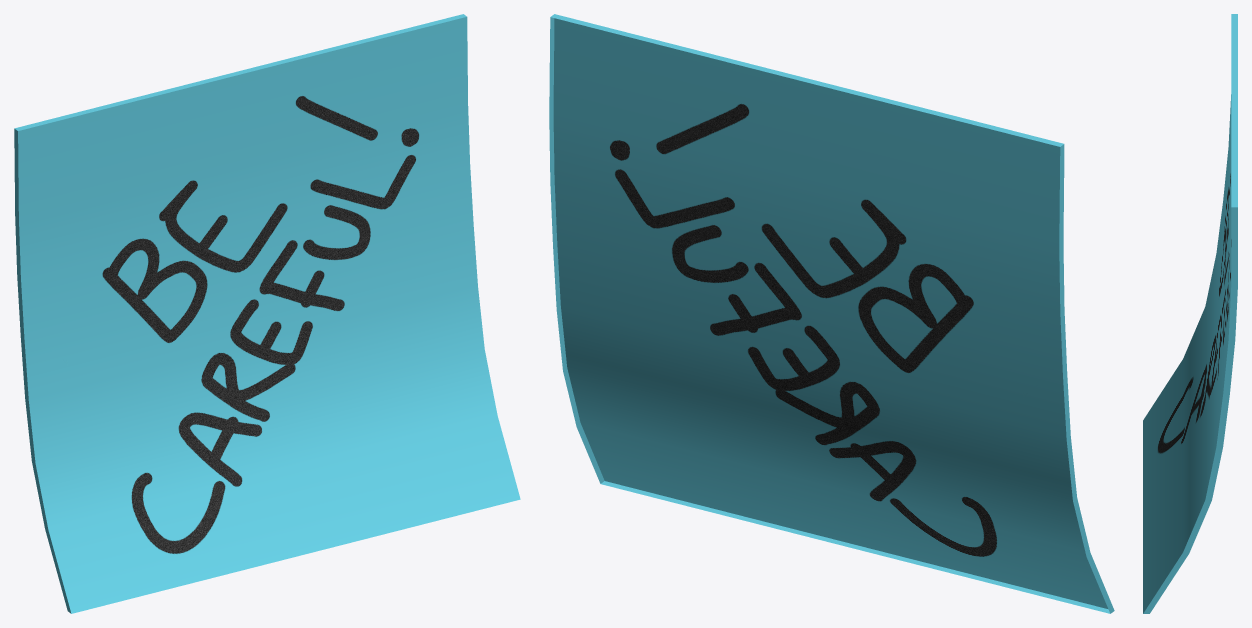
The model's file is StickyNote 1.fbx.
The picture shows the model from 3 angles, left to right: view 1: azimuth 30°, elevation 25°; view 2: azimuth 150°, elevation 25°; view 3: azimuth 270°, elevation 25°; orthographic projection. The views are drawn at different scales.
Visible parts, largest first — view 1: pCube225; view 2: pCube225; view 3: pCube225.
Part boxes in pixels (box(x1,y1,x2,y2)): pCube225: box(14, 14, 520, 613); pCube225: box(549, 14, 1114, 613); pCube225: box(1143, 14, 1237, 613).
Size of the model in its own units: 0.3556 by 0.3393 by 0.0714.
1 material, 1 textured.
